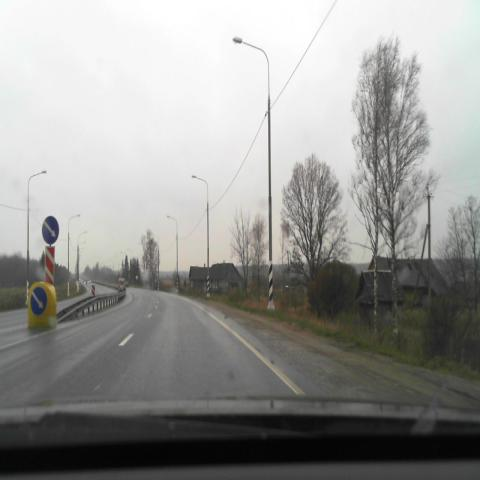4_2_1: (30, 286, 47, 316), (42, 216, 59, 244)
